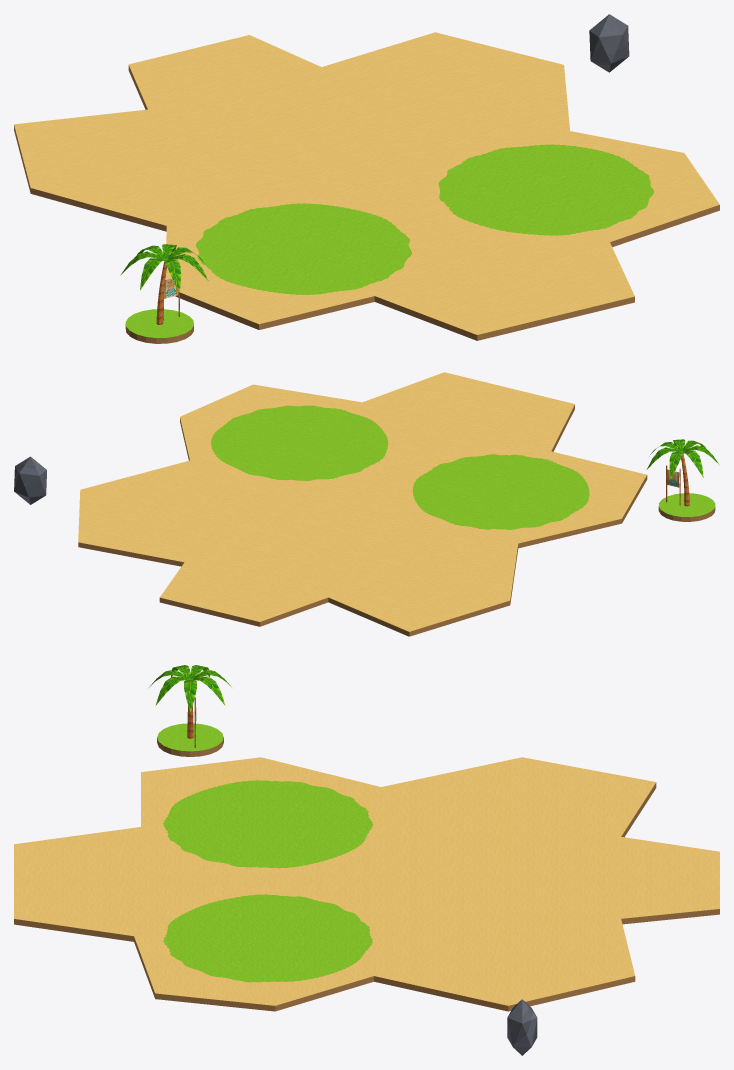
Rendered from surface-12-CYXI5mPj.glb.
3 renders of one model, top to bottom at view 1: azimuth 30°, elevation 25°; view 2: azimuth 150°, elevation 25°; view 3: azimuth 270°, elevation 25°, orthographic. The views are drawn at different scales.
Parts seen in each view (by area): view 1: HI_Surface_12, FLC_Regions_12, HI_SceneryIslet_0.001, HI_Palm.001, HI_BasaltOutcrop.001; view 2: HI_Surface_12, FLC_Regions_12, HI_SceneryIslet_0.001, HI_Palm.001, HI_BasaltOutcrop.001; view 3: HI_Surface_12, FLC_Regions_12, HI_SceneryIslet_0.001, HI_Palm.001, HI_BasaltOutcrop.001.
Part boxes in pixels (left/top/right/bottom): HI_Surface_12: left=14, top=32, right=719, bottom=340; FLC_Regions_12: left=196, top=144, right=653, bottom=294; HI_SceneryIslet_0.001: left=125, top=309, right=193, bottom=343; HI_Palm.001: left=120, top=244, right=208, bottom=324; HI_BasaltOutcrop.001: left=589, top=14, right=629, bottom=72; HI_Surface_12: left=78, top=372, right=647, bottom=636; FLC_Regions_12: left=211, top=405, right=589, bottom=529; HI_SceneryIslet_0.001: left=658, top=493, right=715, bottom=521; HI_Palm.001: left=646, top=439, right=719, bottom=506; HI_BasaltOutcrop.001: left=14, top=456, right=46, bottom=504; HI_Surface_12: left=14, top=757, right=719, bottom=1011; FLC_Regions_12: left=163, top=780, right=372, bottom=982; HI_SceneryIslet_0.001: left=157, top=723, right=223, bottom=756; HI_Palm.001: left=149, top=665, right=231, bottom=738; HI_BasaltOutcrop.001: left=507, top=999, right=537, bottom=1055.
Bounding box in the file's own units: 38.17 × 5.15 × 36.
7 materials, 6 textured.
